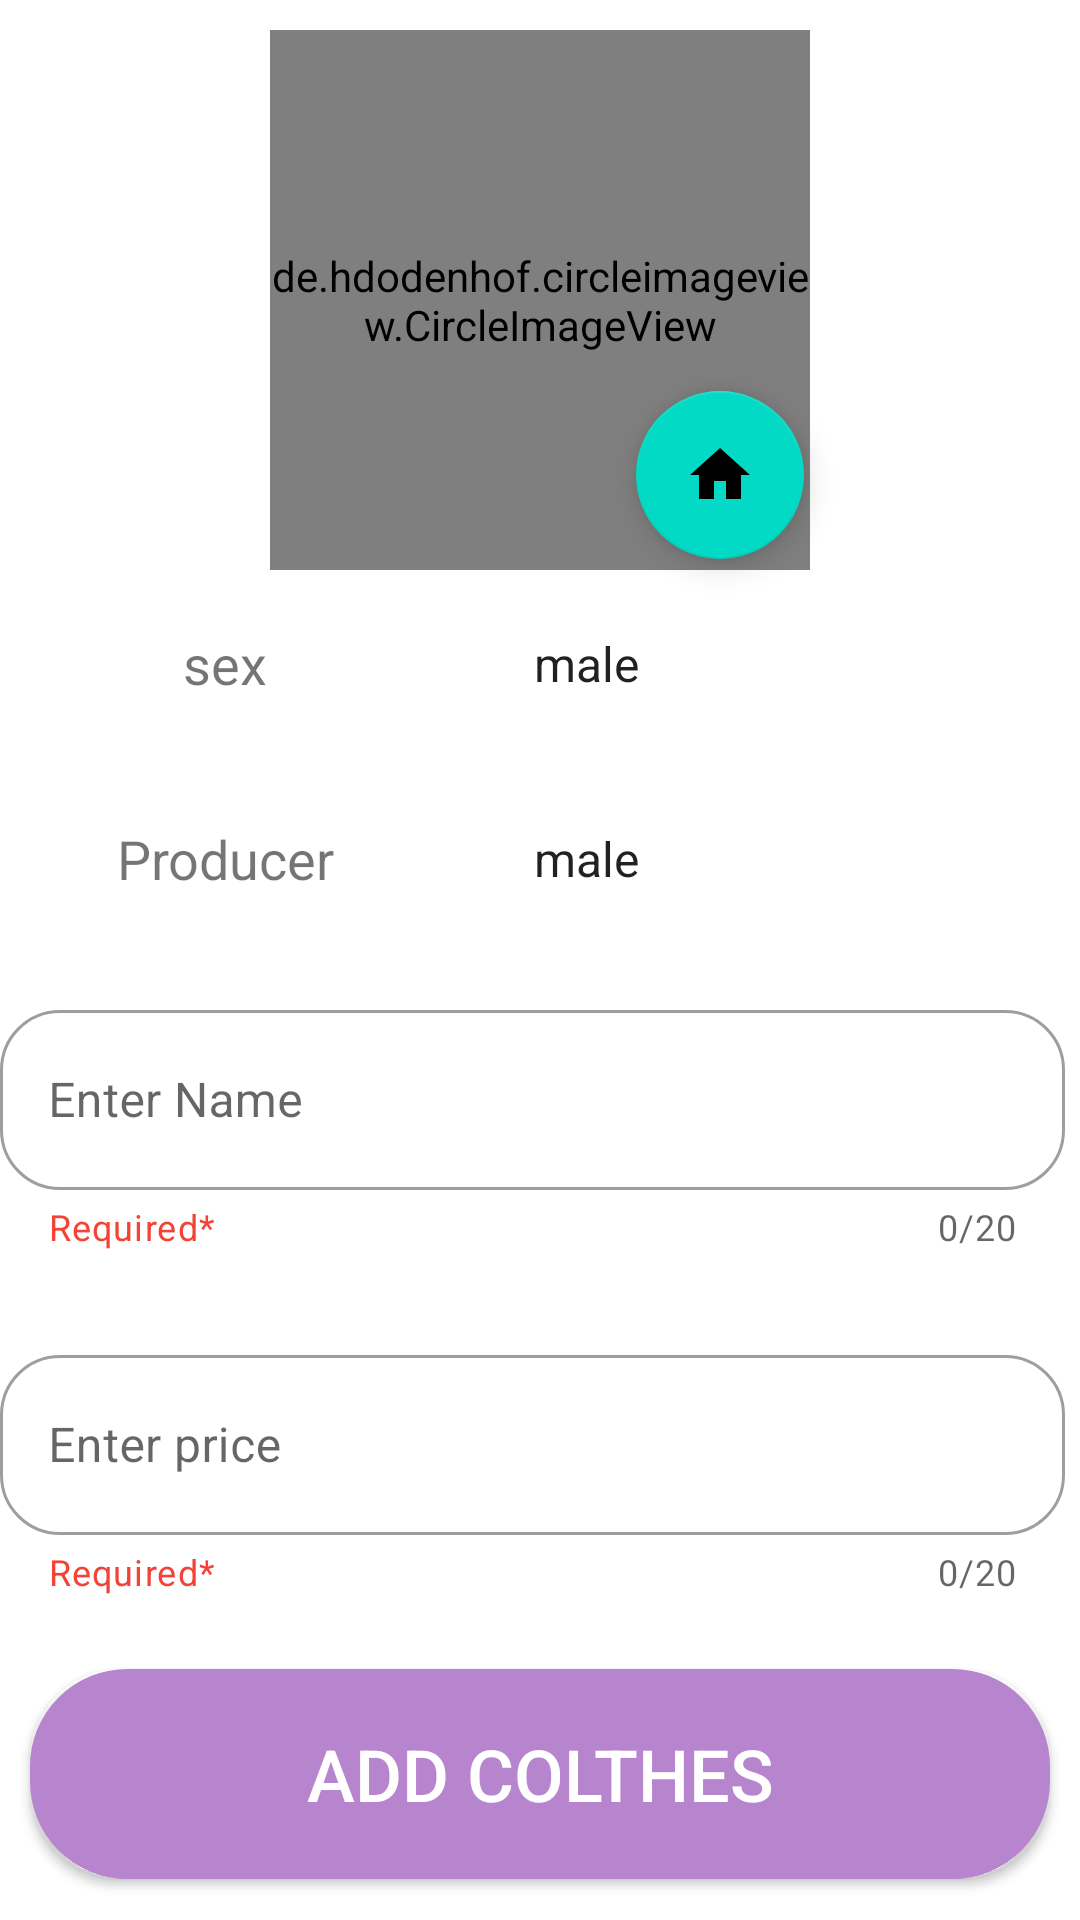

Where icons sit on this 1080w x 1920h app screen, as (x1, y1, x2, y2):
home: (636, 391, 804, 559)
